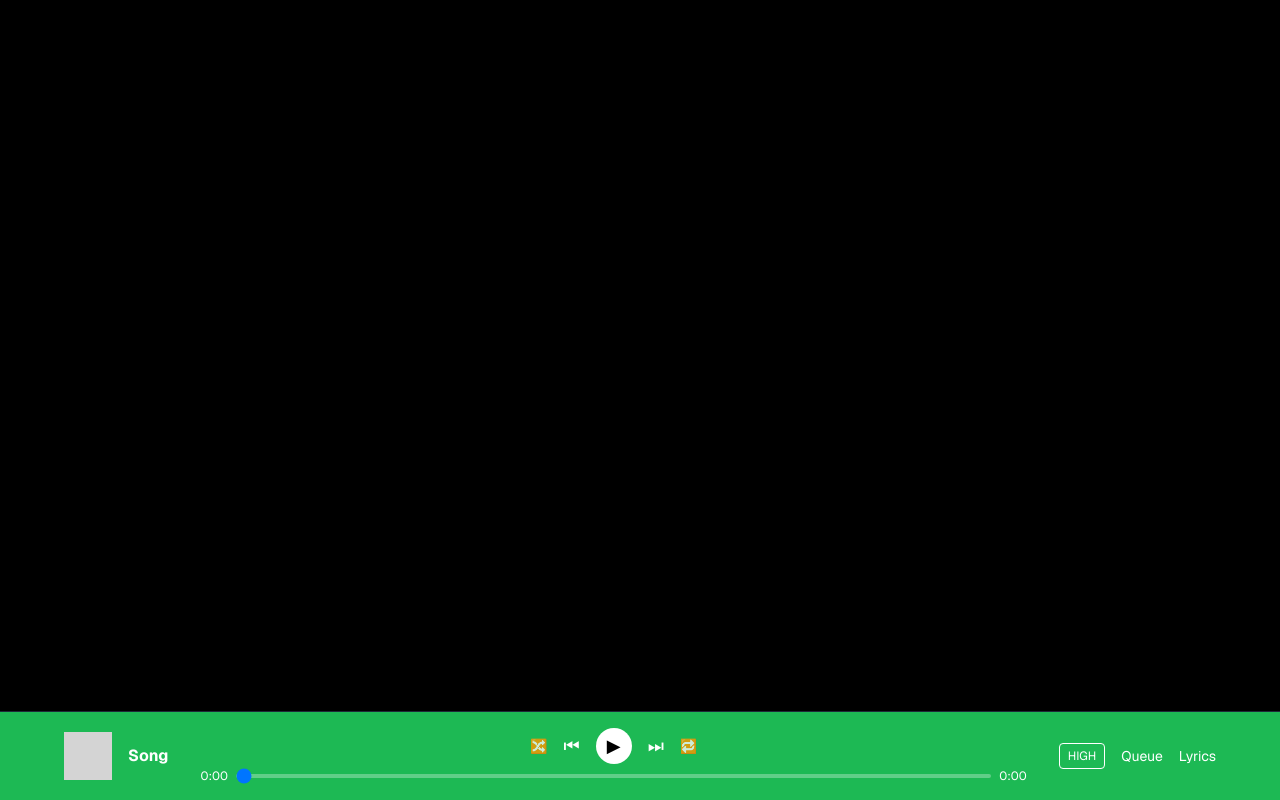
Scenario: Player › toggles lyrics display
Step 1. Click the button "Lyrics" → (1197, 756), box left=1179, top=743, right=1216, bottom=769
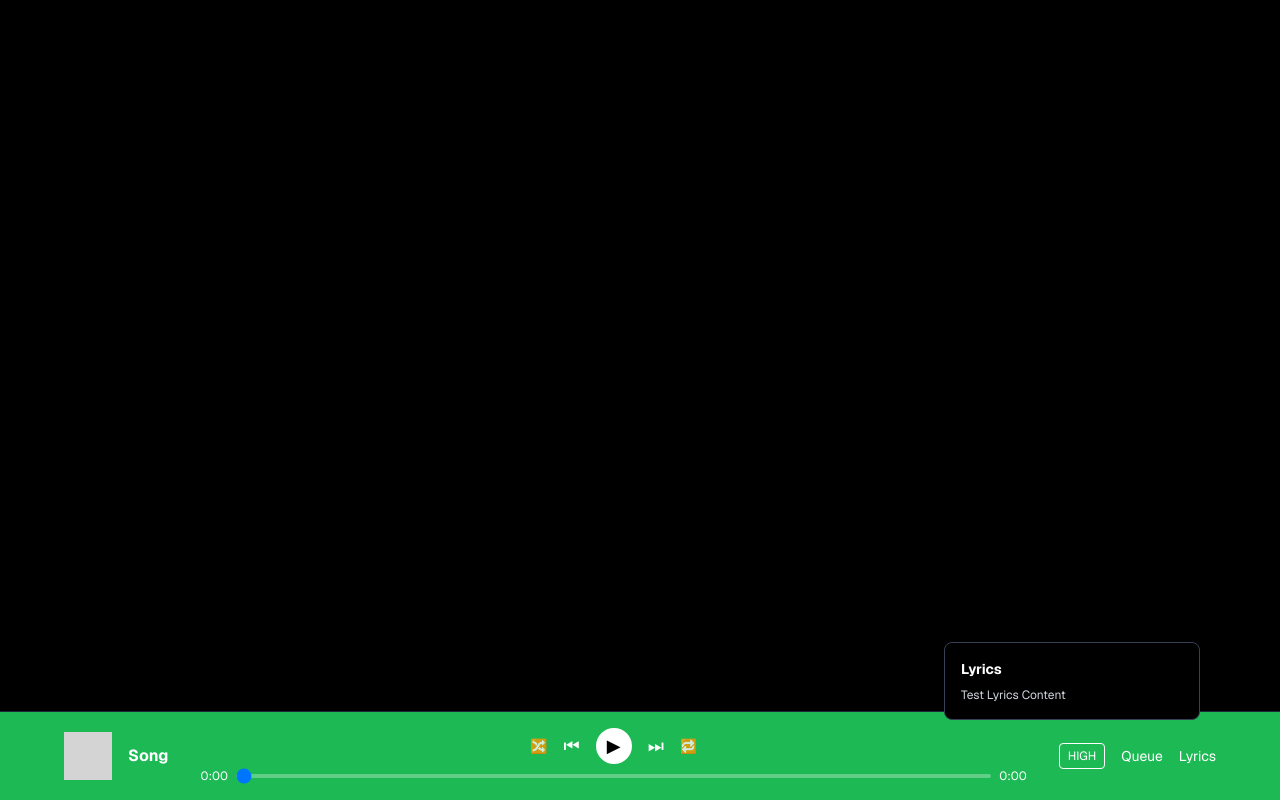
Check: the text "Test Lyrics Content" is shown, box left=961, top=687, right=1066, bottom=703
